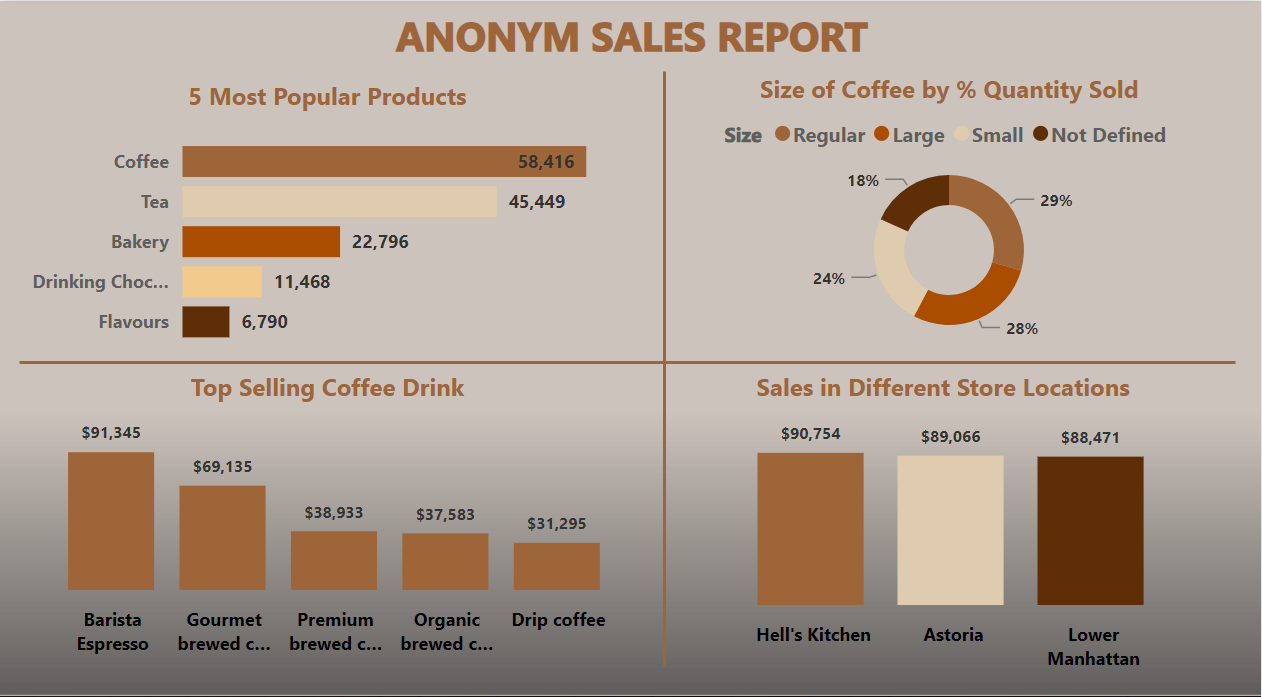

Layout of this report page (visuals, bound fields, positions):
{"tool":"powerbi","page":{"name":"Report 2","canvas":[841,464],"ordinal":1},"visuals":[{"type":"textbox","box":[99,0,645,59],"z":0},{"type":"clusteredColumnChart","title":"Sales in Different Store Locations","fields":{"Y":["Dax Measure.TotalSales"],"Category":["Coffee Sales Data.store_location"]},"box":[449,246,360,208],"z":1000},{"type":"shape","box":[437,47,12,397],"z":2000},{"type":"shape","box":[13,235,811,12],"z":3000},{"type":"clusteredColumnChart","title":"Top Selling Coffee Drink","fields":{"Y":["Dax Measure.TotalSales for Coffee"],"Category":["Coffee Sales Data.product_type"]},"box":[0,246,437,198],"z":4000},{"type":"clusteredBarChart","title":"5 Most Popular Products ","fields":{"Category":["Coffee Sales Data.product_category"],"Y":["Dax Measure.TotalTransactions"]},"box":[0,52,437,189],"z":5000},{"type":"donutChart","title":"Size of Coffee by % Quantity Sold","fields":{"Category":["Coffee Sales Data.Size"],"Y":["Dax Measure.TotalQuantity"],"Series":["Coffee Sales Data.product_category"]},"box":[449,47,368,188],"z":6000}]}

Visuals, with their boxes in screenshot pixels (x1, y1, x2, y2), scaled from the page's 841x464 canvas onto the 1262x697 screenshot:
textbox: 149, 0, 1116, 89
"Sales in Different Store Locations" clusteredColumnChart: 674, 370, 1214, 682
shape: 656, 71, 674, 667
shape: 20, 353, 1236, 371
"Top Selling Coffee Drink" clusteredColumnChart: 0, 370, 656, 667
"5 Most Popular Products " clusteredBarChart: 0, 78, 656, 362
"Size of Coffee by % Quantity Sold" donutChart: 674, 71, 1226, 353
